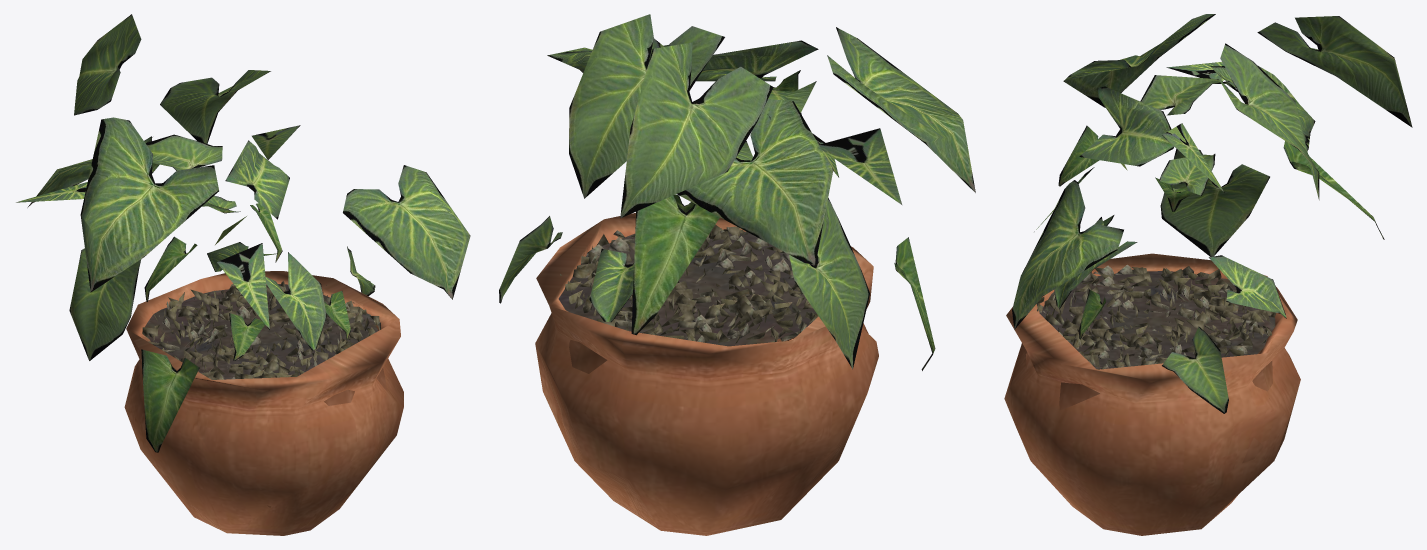
The model's file is potted_plant_02.glb.
3 views of the same model, side by side, from view 1: azimuth 30°, elevation 25°; view 2: azimuth 150°, elevation 25°; view 3: azimuth 270°, elevation 25° (orthographic). The views are drawn at different scales.
Visible parts, largest first — view 1: potted_plant_02_leaves, potted_plant_02_pot; view 2: potted_plant_02_pot, potted_plant_02_leaves; view 3: potted_plant_02_pot, potted_plant_02_leaves.
Boxes of the visible parts, left/top/right/bottom form: potted_plant_02_leaves: left=16, top=14, right=470, bottom=452; potted_plant_02_pot: left=124, top=271, right=403, bottom=535; potted_plant_02_pot: left=535, top=213, right=878, bottom=535; potted_plant_02_leaves: left=499, top=14, right=975, bottom=370; potted_plant_02_pot: left=1004, top=253, right=1300, bottom=535; potted_plant_02_leaves: left=1012, top=14, right=1412, bottom=413.
Bounding box in the file's own units: 0.6969 × 0.8138 × 0.6481.
2 materials, 2 textured.
